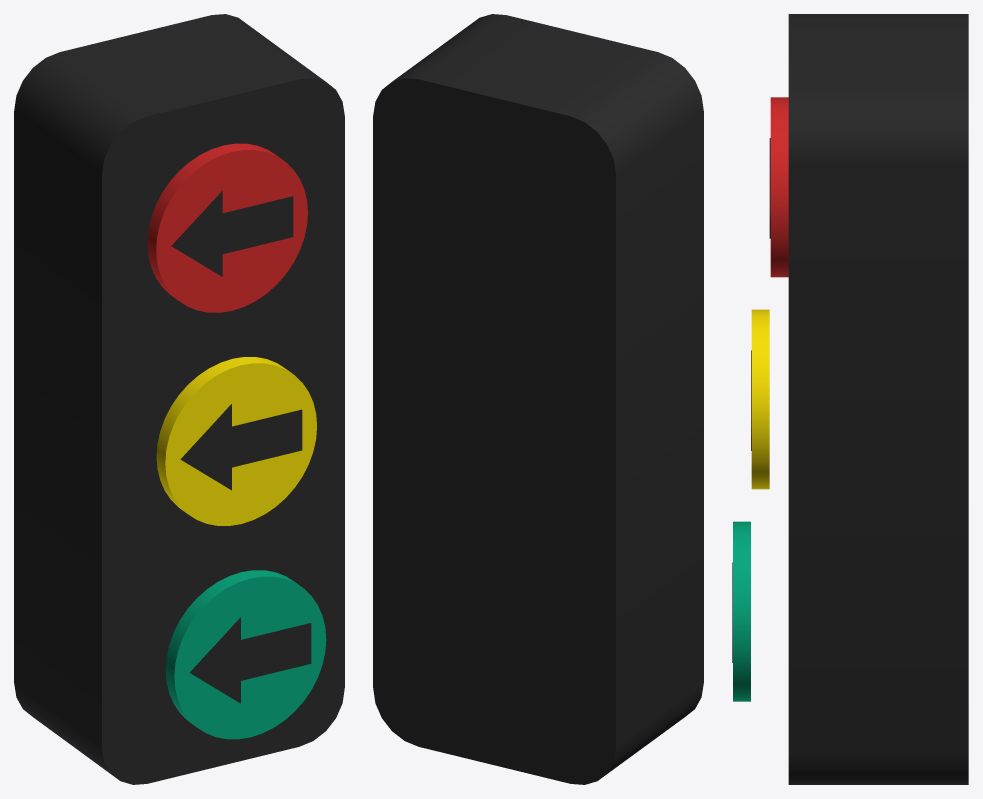
The picture shows the model from 3 angles, left to right: view 1: azimuth 30°, elevation 25°; view 2: azimuth 150°, elevation 25°; view 3: azimuth 270°, elevation 25°; orthographic projection. The views are drawn at different scales.
Visible parts, largest first — view 1: R16tg_r00, R16tg_d250, R16tg_d302, R16tg_d276, R16tg_s275, R16tg_s301, R16tg_s327; view 2: R16tg_r00; view 3: R16tg_r00, R16tg_d250, R16tg_d276, R16tg_d302.
Part boxes in pixels (bbox=[...]): R16tg_r00: bbox=[14, 14, 344, 784]; R16tg_d250: bbox=[147, 143, 307, 312]; R16tg_d302: bbox=[165, 570, 326, 739]; R16tg_d276: bbox=[156, 357, 316, 525]; R16tg_s275: bbox=[171, 190, 293, 276]; R16tg_s301: bbox=[180, 404, 302, 490]; R16tg_s327: bbox=[190, 617, 311, 703]; R16tg_r00: bbox=[373, 14, 703, 784]; R16tg_r00: bbox=[788, 14, 968, 784]; R16tg_d250: bbox=[770, 97, 788, 277]; R16tg_d276: bbox=[751, 309, 769, 489]; R16tg_d302: bbox=[733, 521, 750, 701].
Size of the model in its own units: 0.16 by 0.42 by 0.1312.
